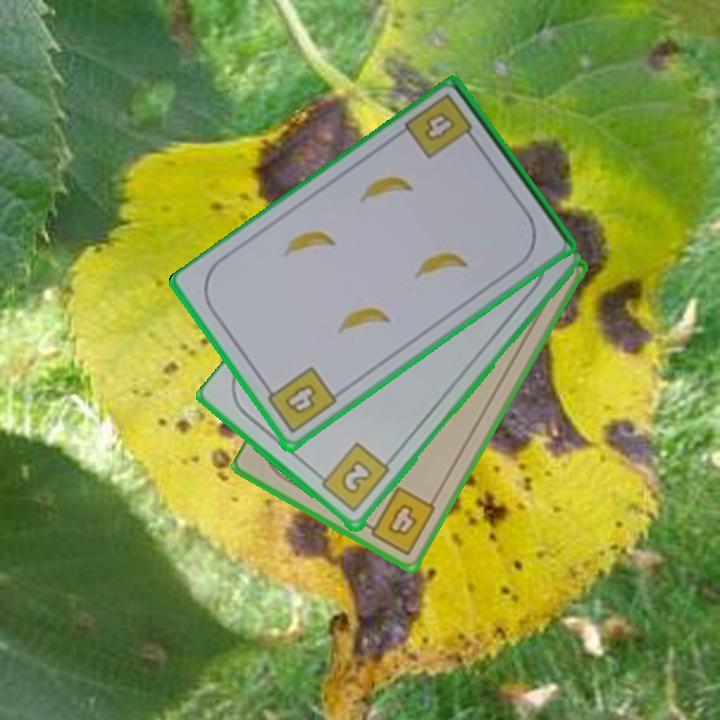2b: (312, 439, 393, 516)
4b: (359, 483, 439, 559), (260, 363, 340, 437), (420, 108, 459, 145)
